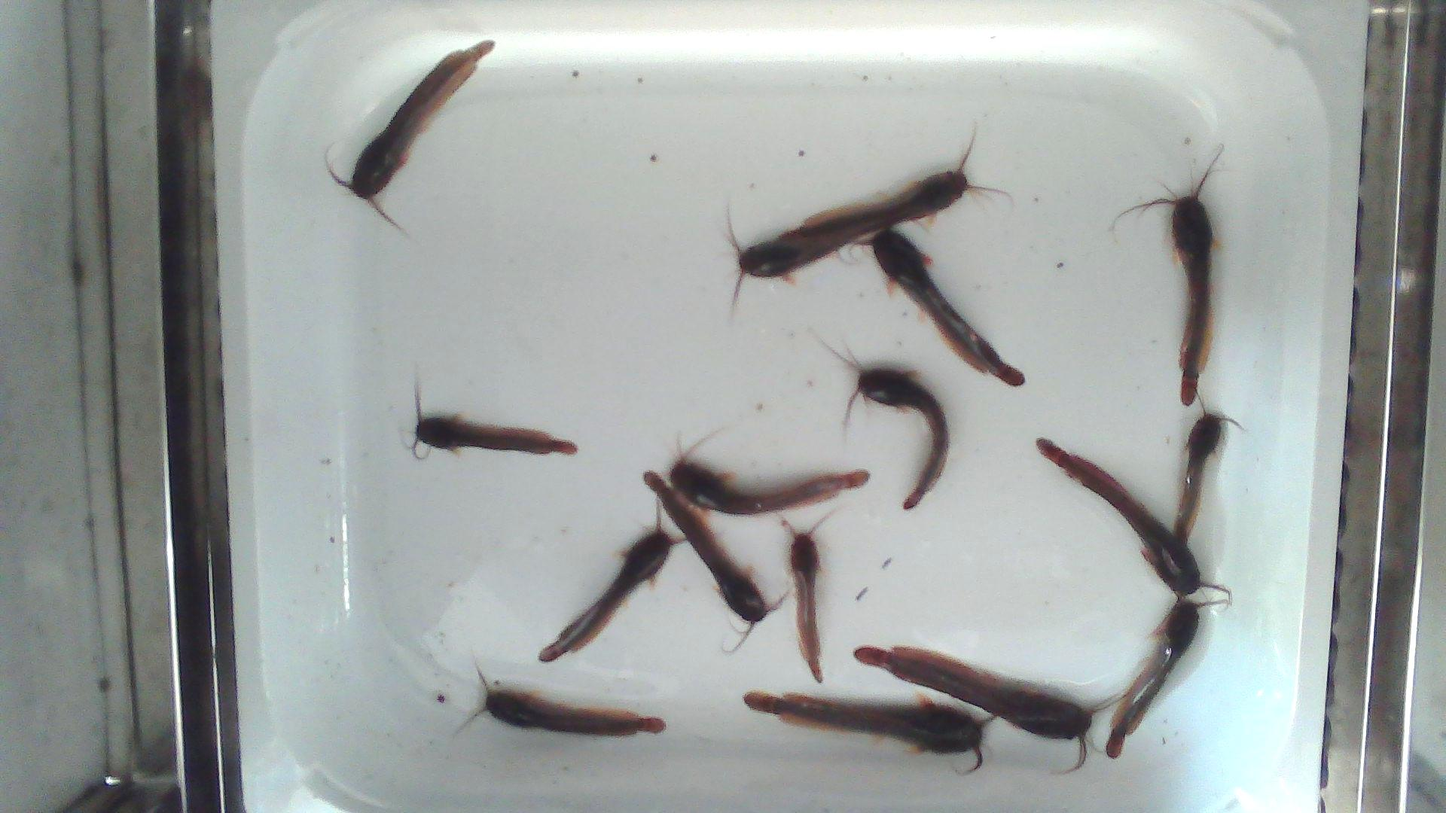lele: (335, 40, 494, 224), (1039, 440, 1201, 593), (871, 230, 1023, 385), (856, 646, 1094, 740), (729, 210, 927, 309), (779, 150, 1006, 236), (645, 471, 772, 622), (539, 525, 673, 661), (743, 691, 983, 761), (1106, 597, 1208, 757), (856, 368, 949, 509), (671, 456, 868, 515), (1164, 193, 1212, 404), (484, 689, 665, 736), (416, 409, 577, 454), (1173, 411, 1226, 541), (789, 531, 821, 682)
